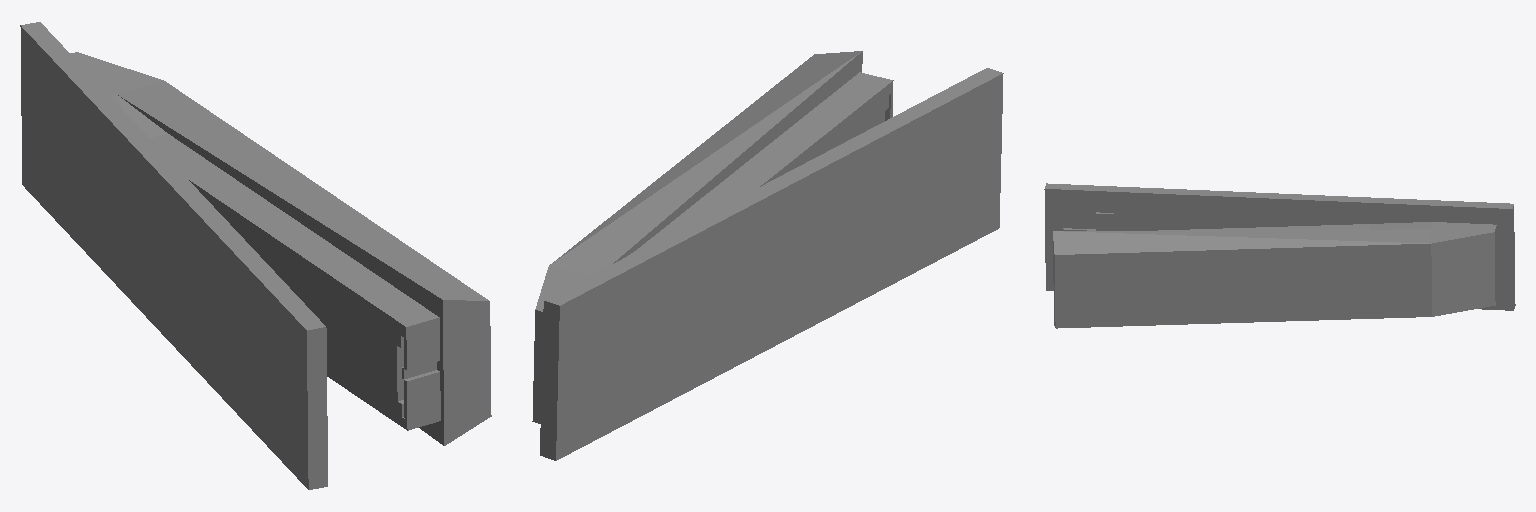
The robot description file, URDF, robot "cube.urdf":
<?xml version="0.0" ?> 
<robot name="cube.urdf"> 
<link name="legobrick"> 
<contact> 
<lateral_friction value="1.0"/>
<rolling_friction value="0.0"/>
<contact_cfm value="0.0"/>
<contact_erp value="1.0"/>
</contact> 
<inertial> 
<origin rpy="0 0 0" xyz="0.0 0.0 0.0"/> 
<mass value="0.1"/> 
<inertia ixx="1" ixy="0" ixz="0" iyy="1" iyz="0" izz="1"/> 
</inertial> 
<visual> 
<origin rpy="1.570796 0 0" xyz="-0.002630012121212122 0.05501651515151517 -0.0001042969696969663"/> 
<geometry> 
<mesh filename="4dbb5a6cd26d13067964ba700cd97f5.obj" scale="1 1 1"/> 
</geometry> 
<material name="yellow"> 
<color rgba="0.6 0.6 0.6 1"/> 
</material> 
</visual> 
<collision> 
<origin rpy="1.570796 0 0" xyz="-0.002630012121212122 0.05501651515151517 -0.0001042969696969663"/> 
<geometry> 
<mesh filename="4dbb5a6cd26d13067964ba700cd97f5_col.obj" scale="1 1 1"/> 
</geometry> 
</collision> 
</link> 
</robot>

--- What the picture shows (computed from the rendered views, not written in the file) ---
Views: 3 orthographic renders of the robot side by side, from view 1: azimuth 30°, elevation 25°; view 2: azimuth 150°, elevation 25°; view 3: azimuth 270°, elevation 25°.
Robot: cube.urdf — 1 links, 0 joints (none); root link legobrick; default pose: every joint at zero.
Visible links, largest first — view 1: legobrick; view 2: legobrick; view 3: legobrick.
Boxes of the visible links, bbox=[...] form: legobrick: bbox=[20, 22, 491, 489]; legobrick: bbox=[532, 51, 1003, 460]; legobrick: bbox=[1044, 183, 1515, 328].
Bounding box of the posed robot: 0.045 × 0.1527 × 0.0385 m (x, y, z).
Meshes: 1 distinct files referenced, 1 mesh visuals loaded (1 OBJ).